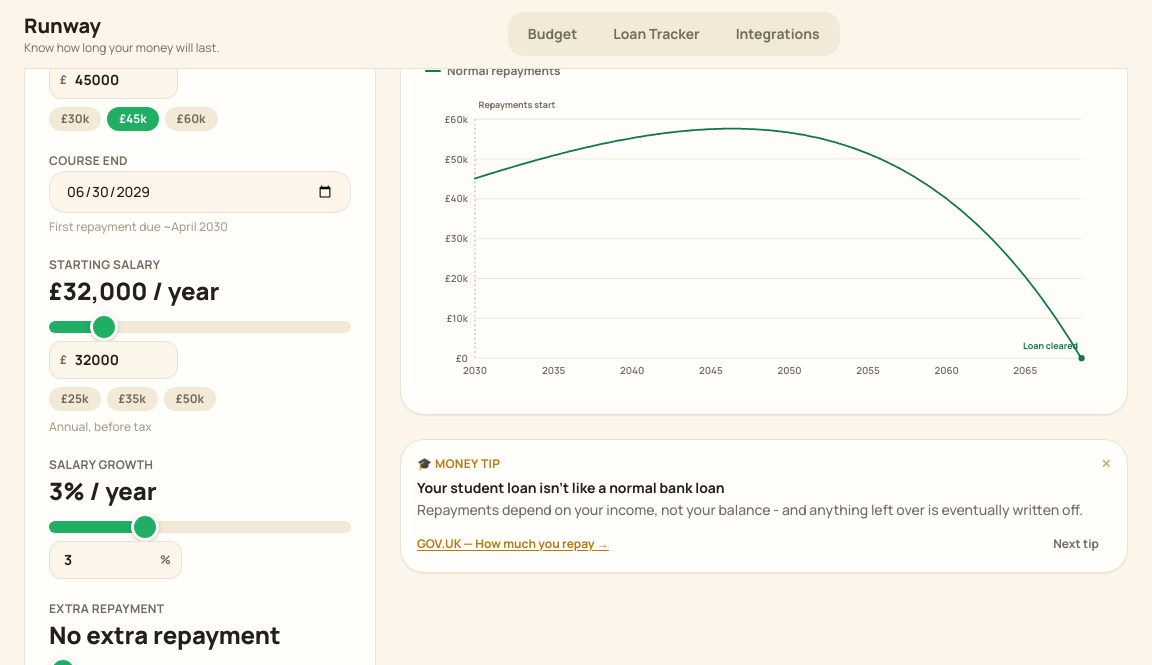
Test: LoanTrackerShell - editing the example › restores the example values when Reset to example is clicked
(page scrolled)
Replace the text in the number field named "starting salary - exact value" with "50000" at (119, 360), box [71,346,167,374]
(page scrolled)
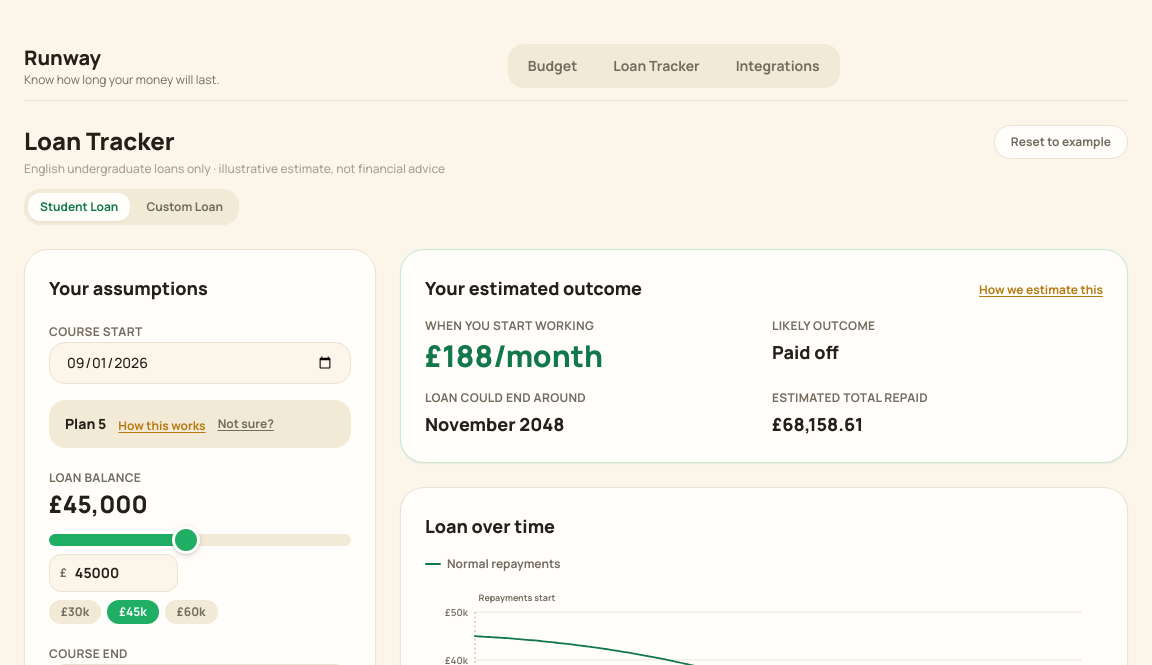
Click the button "Reset to example" at (1061, 142), box [994,125,1128,159]
(page scrolled)
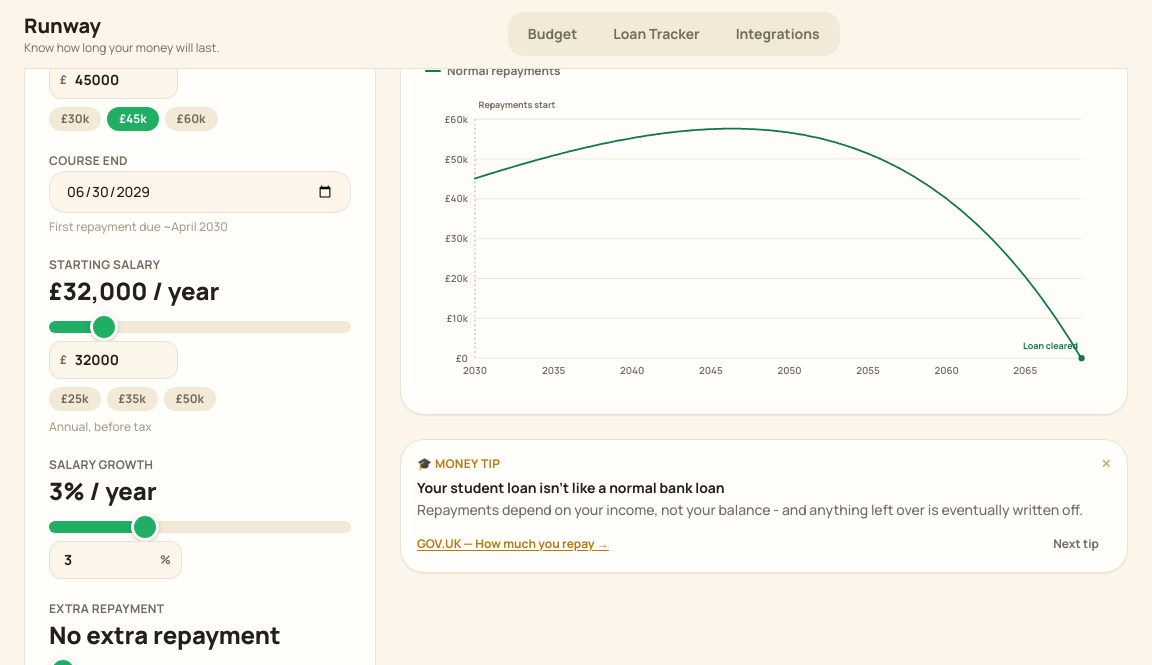
Now the number field named "starting salary - exact value" holds "32000", box [71,346,167,374]
